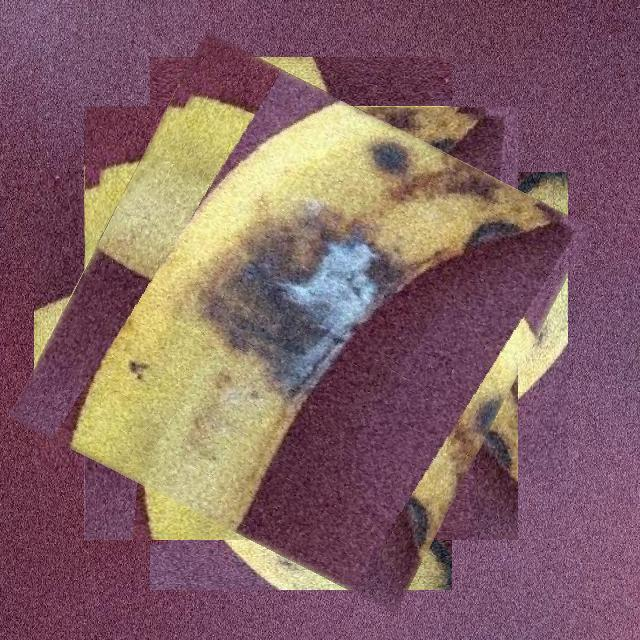Podre: (47, 69, 555, 577)
